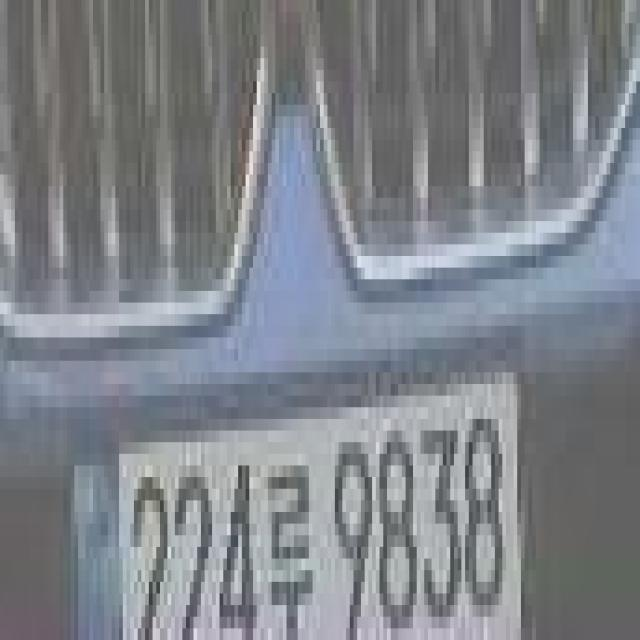illegal_plate: (69, 368, 533, 640)
